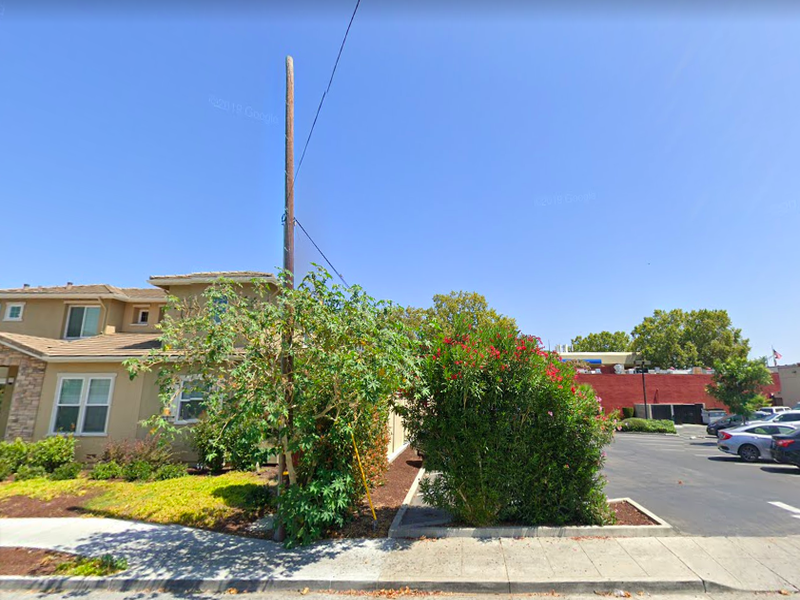utility_pole: (264, 45, 314, 183)
